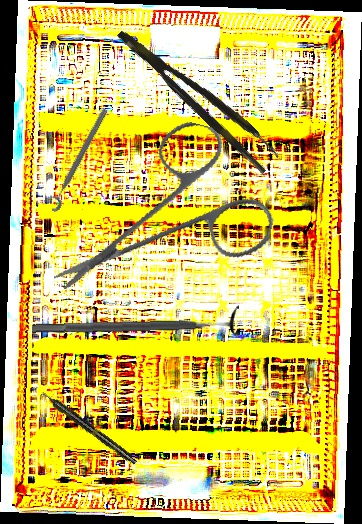Fixation Ring: (31, 304, 241, 346), (40, 103, 112, 214)
Handpiece: (39, 388, 139, 467)
Iris Scissors: (52, 99, 292, 334)
Tissue Forceps: (115, 16, 282, 175)
